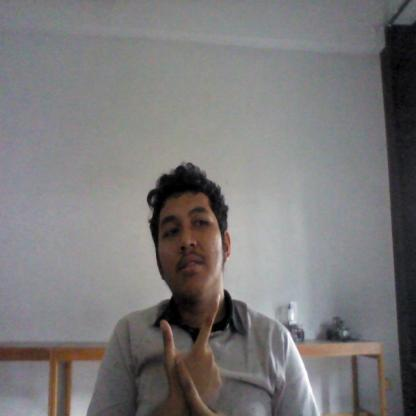Y: (158, 292, 224, 412)
